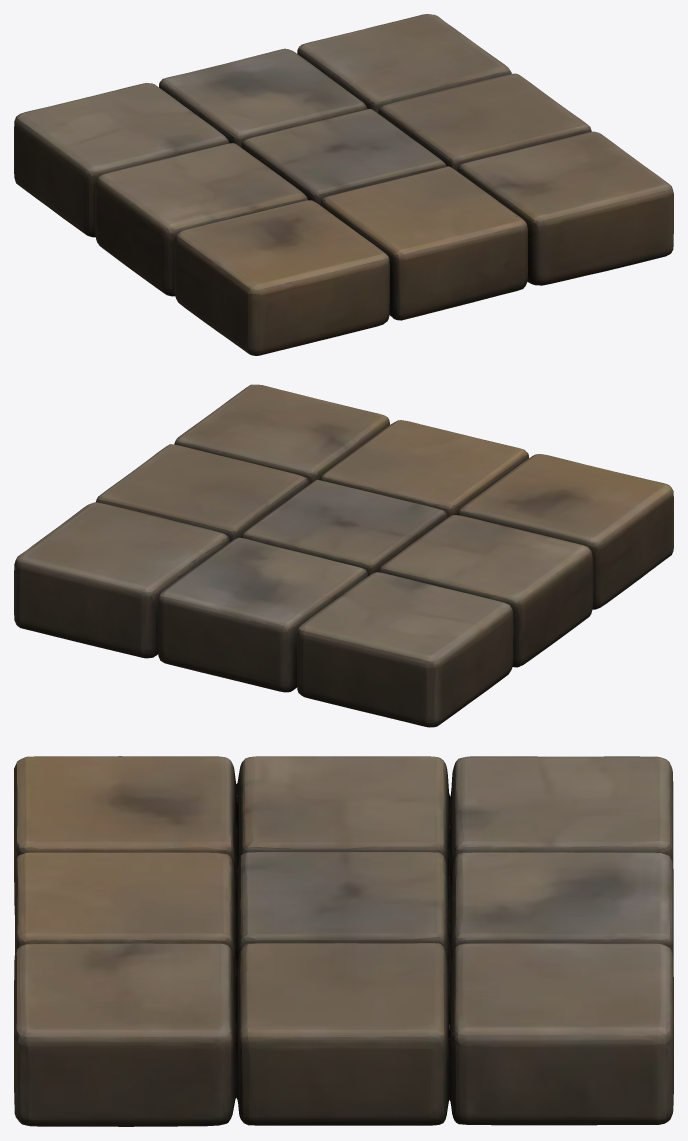
The model's file is floating tile.glb.
The picture shows the model from 3 angles, top to bottom: view 1: azimuth 30°, elevation 25°; view 2: azimuth 150°, elevation 25°; view 3: azimuth 270°, elevation 25°; orthographic projection. The views are drawn at different scales.
Parts seen in each view (by area): view 1: world; view 2: world; view 3: world.
Boxes of the visible parts, left/top/right/bottom form: world: left=14, top=14, right=673, bottom=355; world: left=14, top=384, right=673, bottom=727; world: left=14, top=756, right=673, bottom=1126.
Bounding box in the file's own units: 0.9995 × 0.1606 × 0.9816.
1 material, 1 textured.
